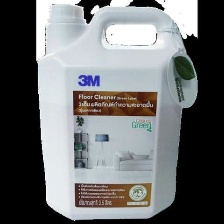cleaning_solution: (35, 0, 189, 223)
